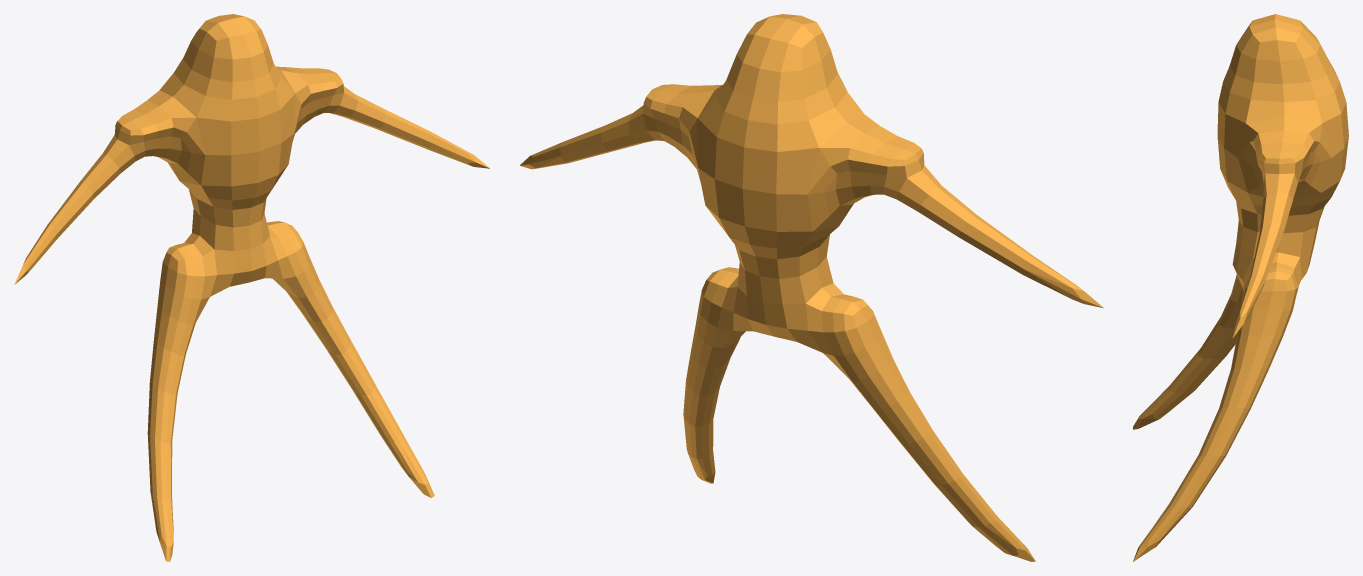
The model's file is basic_enemy_fig1.glb.
The picture shows the model from 3 angles, left to right: view 1: azimuth 30°, elevation 25°; view 2: azimuth 150°, elevation 25°; view 3: azimuth 270°, elevation 25°; orthographic projection. The views are drawn at different scales.
Parts seen in each view (by area): view 1: Circle; view 2: Circle; view 3: Circle.
Boxes of the visible parts, x1,y1,x2,y2 form: Circle: (14,14,489,561); Circle: (520,14,1103,561); Circle: (1133,14,1348,561).
Size of the model in its own units: 7.86 by 7.26 by 2.99.
